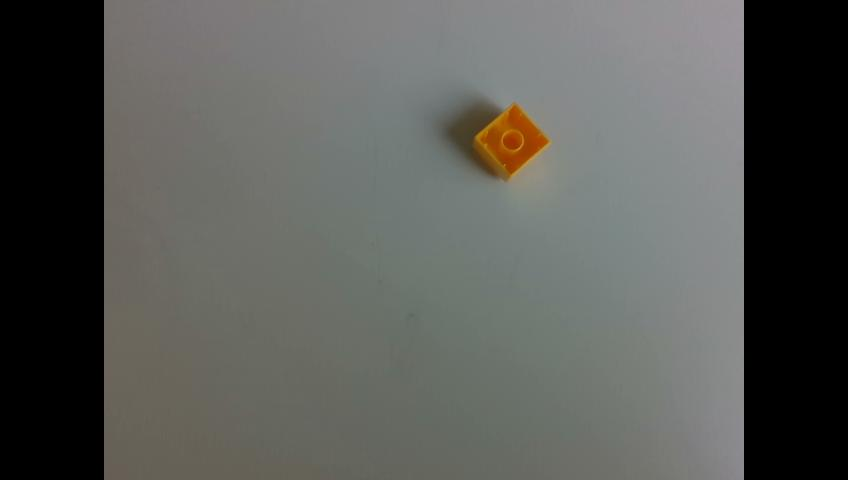2x2_yellow: (473, 102, 551, 180)
